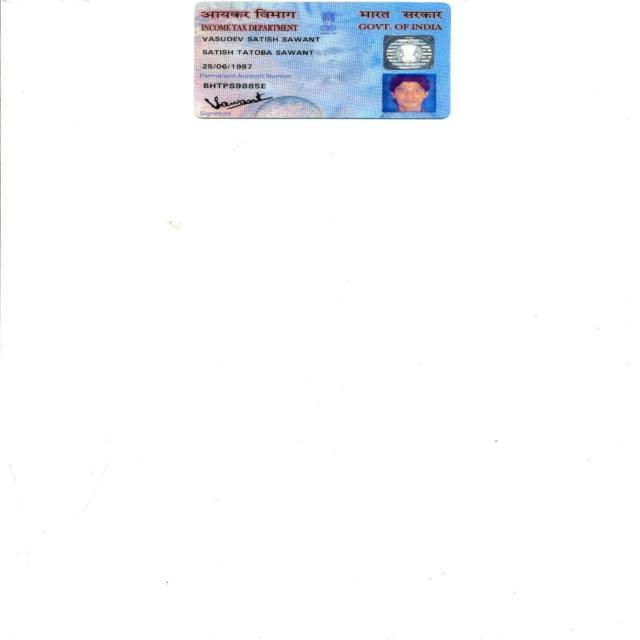pan_card: (197, 4, 449, 119)
